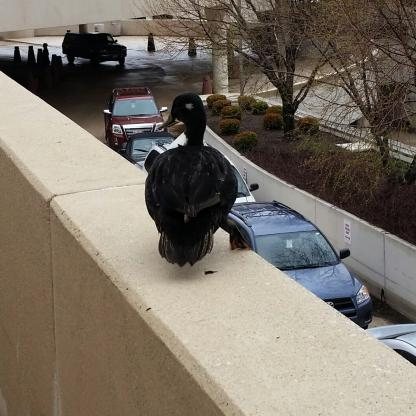Car: (225, 203, 372, 332), (142, 143, 262, 205), (104, 85, 170, 149), (63, 31, 129, 73), (366, 322, 416, 367), (118, 134, 174, 162)
